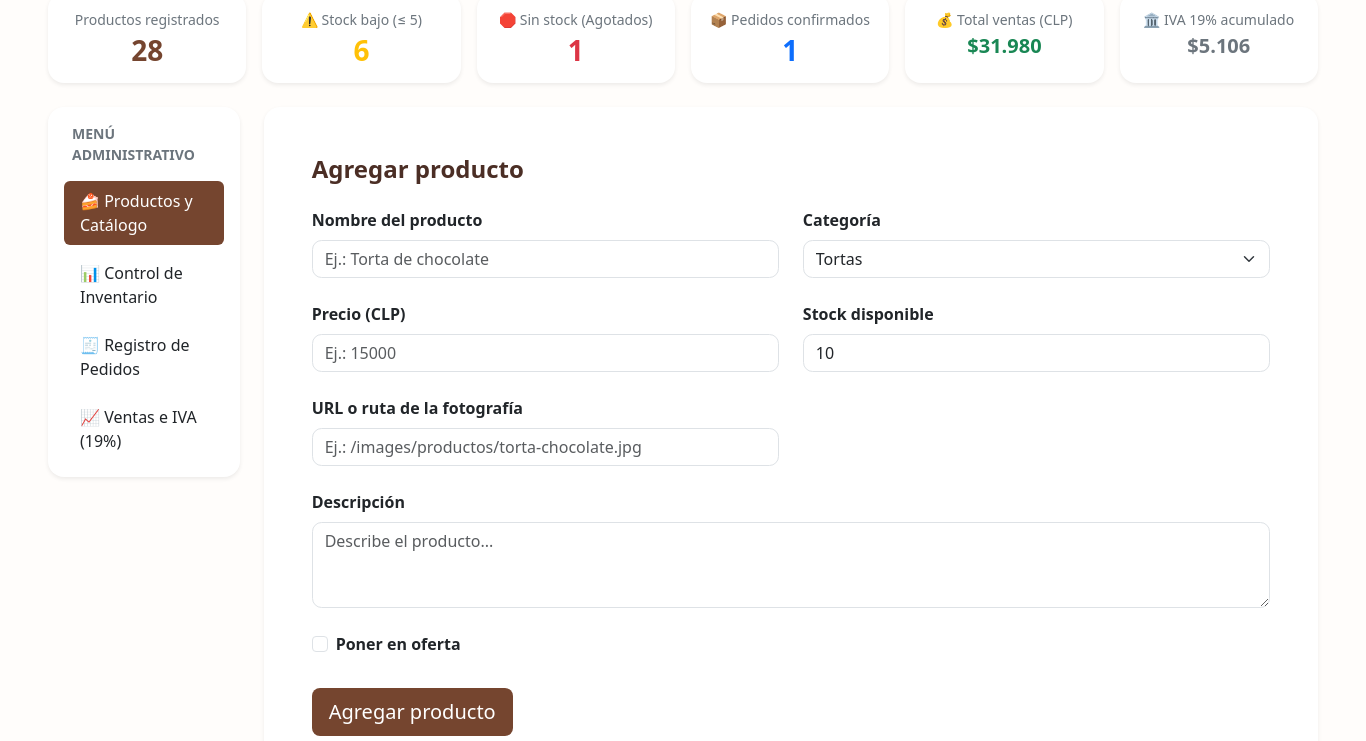
Scenario: Dashboard Administrativo: Pestañas, Inventario, Pedidos e Impuestos › muestra el historial de pedidos e impuestos consolidados en sus respectivas pestañas
The image size is (1366, 741).
(page scrolled)
Navegar a Pestaña Pedidos
Click the button "🧾 Registro de Pedidos" at x=144, y=357, box [64,325,224,389]
(page scrolled)
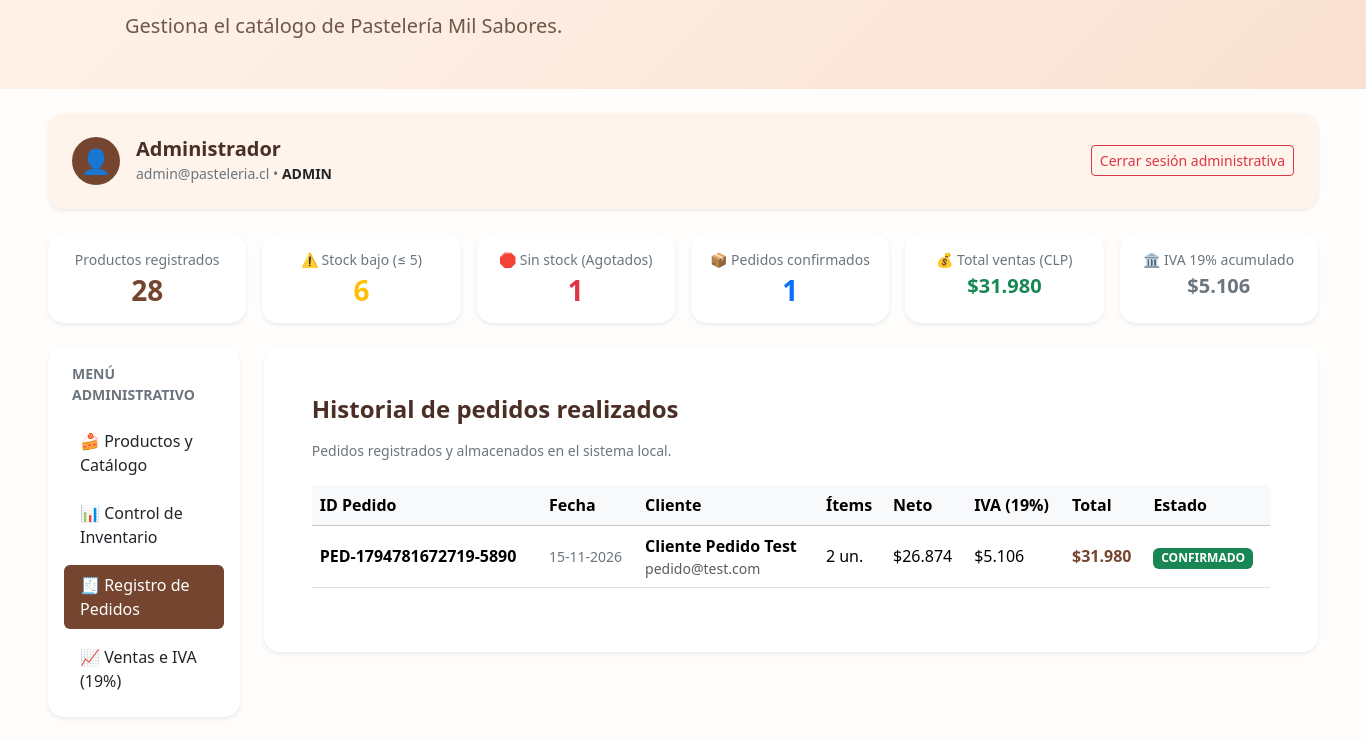
expect the text "$31.980" is shown: met, box [967,272,1042,299]
expect the heading "Historial de pedidos realizados" is shown: met, box [312,392,678,425]
expect the text "Cliente Pedido Test" is shown: met, box [645,534,810,558]
Navegar a Pestaña Ventas e Impuestos
Click the button "📈 Ventas e IVA (19%)" at x=144, y=669, box [64,637,224,701]
(page scrolled)
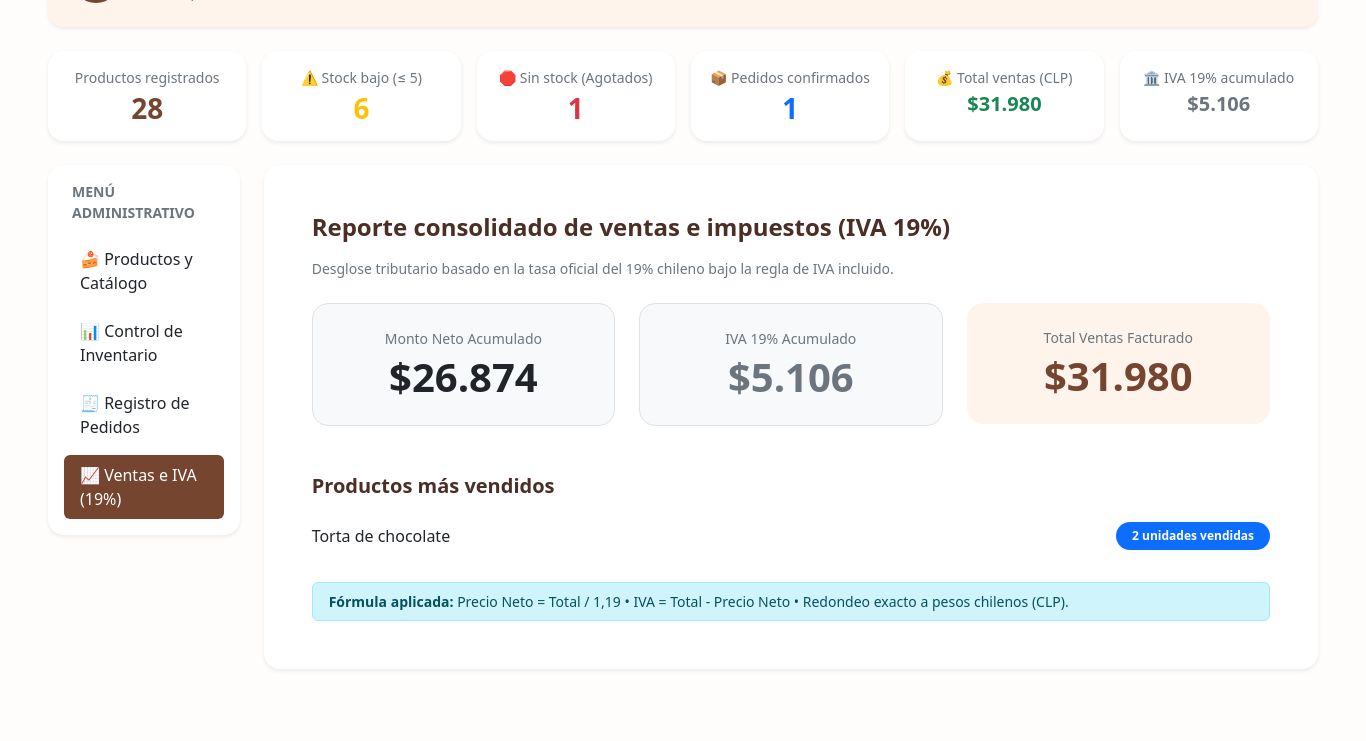
expect the heading "Reporte consolidado de ventas e impuestos (IVA 19%)" is shown: met, box [312,210,950,243]
expect the text "Monto Neto Acumulado" is shown: met, box [385,329,542,348]
expect the text "IVA 19% Acumulado" is shown: met, box [725,329,856,348]
